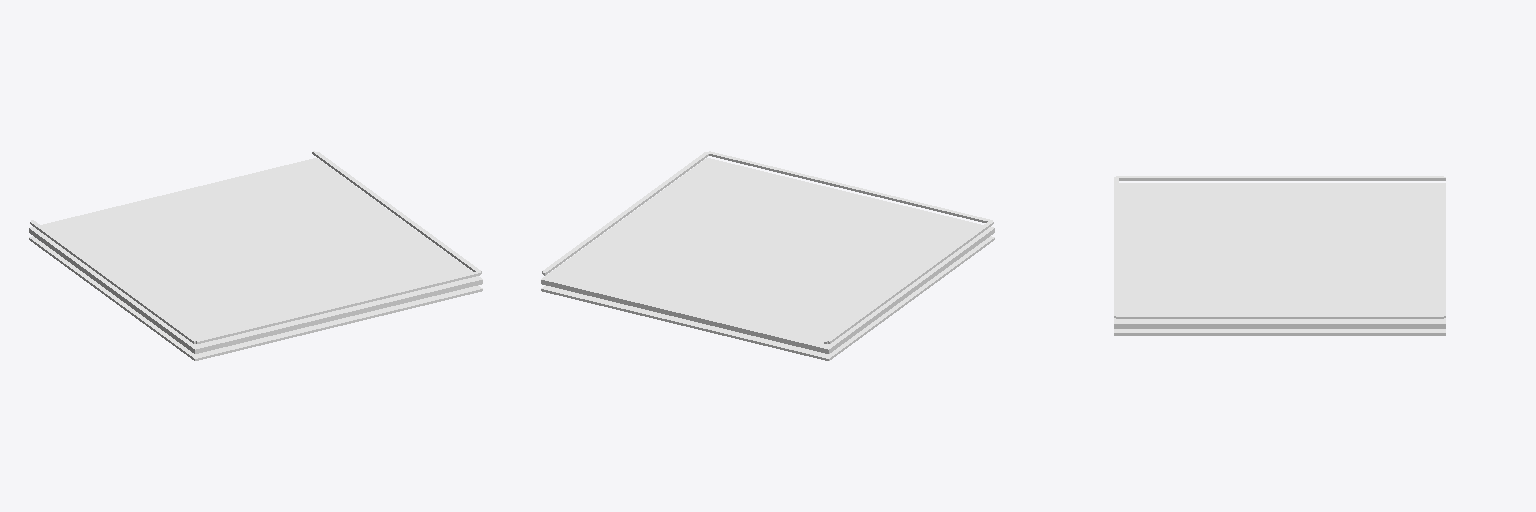
Rendered from aaaaaaa.obj.
The picture shows the model from 3 angles: view 1: azimuth 30°, elevation 25°; view 2: azimuth 150°, elevation 25°; view 3: azimuth 270°, elevation 25°; orthographic projection.
Visible parts, largest first — view 1: Map_Art__64_-61_-64_to_191_319_63; view 2: Map_Art__64_-61_-64_to_191_319_63; view 3: Map_Art__64_-61_-64_to_191_319_63.
Boxes of the visible parts, <box> form: Map_Art__64_-61_-64_to_191_319_63: <box>29,151,482,360</box>; Map_Art__64_-61_-64_to_191_319_63: <box>541,151,994,360</box>; Map_Art__64_-61_-64_to_191_319_63: <box>1114,176,1445,335</box>.
Size of the model in its own units: 512 by 32 by 512.